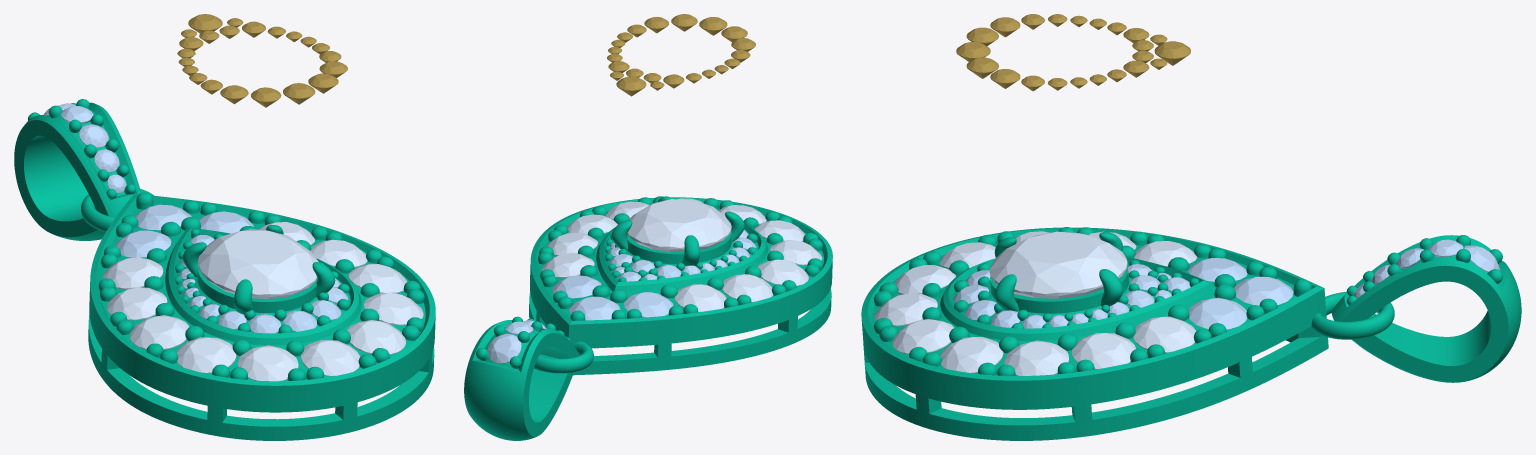
The picture shows the model from 3 angles, left to right: view 1: azimuth 30°, elevation 25°; view 2: azimuth 150°, elevation 25°; view 3: azimuth 270°, elevation 25°; orthographic projection. The views are drawn at different scales.
Visible parts, largest first — view 1: VBP186 001(base).3dm, Diamond_Round (×24), Diamond_Oval, Bezel, Head Prong (×3); view 2: VBP186 001(base).3dm, Diamond_Round (×16), Diamond_Oval, Head Prong (×3), Bezel; view 3: VBP186 001(base).3dm, Diamond_Round (×12), Diamond_Oval, Bezel, Head Prong (×2).
Part boxes in pixels (<box>): VBP186 001(base).3dm: <box>14,102,435,440</box>; Diamond_Round (×24): <box>61,14,423,381</box>; Diamond_Oval: <box>198,229,318,299</box>; Bezel: <box>197,265,317,312</box>; Head Prong (×3): <box>182,242,335,314</box>; VBP186 001(base).3dm: <box>464,197,832,440</box>; Diamond_Round (×16): <box>487,17,822,363</box>; Diamond_Oval: <box>627,199,731,251</box>; Head Prong (×3): <box>611,211,744,265</box>; Bezel: <box>627,231,731,264</box>; VBP186 001(base).3dm: <box>861,227,1521,440</box>; Diamond_Round (×12): <box>874,241,1293,375</box>; Diamond_Oval: <box>989,231,1127,298</box>; Bezel: <box>990,267,1128,313</box>; Head Prong (×2): <box>994,269,1122,311</box>.
Size of the model in its own units: 1.87 by 1.91 by 3.45.
